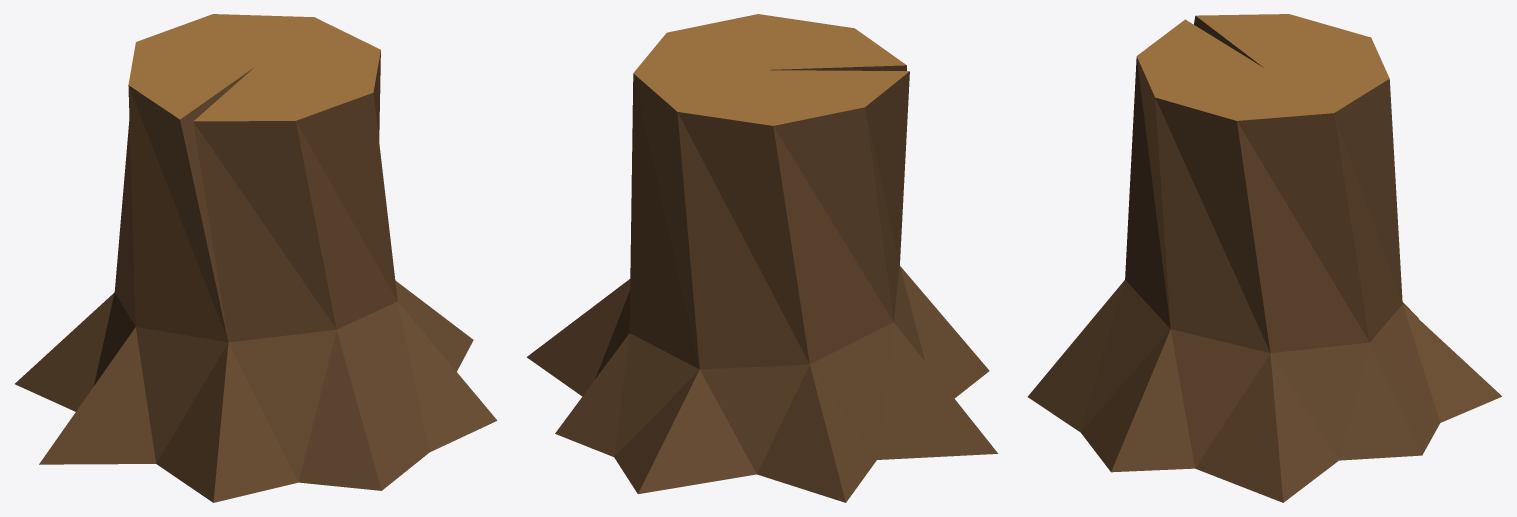
Rendered from nature-stump.glb.
The picture shows the model from 3 angles, left to right: view 1: azimuth 30°, elevation 25°; view 2: azimuth 150°, elevation 25°; view 3: azimuth 270°, elevation 25°; orthographic projection. The views are drawn at different scales.
Visible parts, largest first — view 1: stump; view 2: stump; view 3: stump.
Part boxes in pixels (box(x1,y1,x2,y2)): stump: box(15, 14, 497, 502); stump: box(527, 14, 998, 502); stump: box(1027, 14, 1501, 502).
Size of the model in its own units: 1.06 by 0.7863 by 0.9914.
